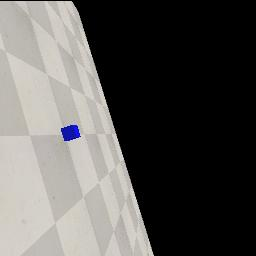box: (61, 125, 81, 141)
